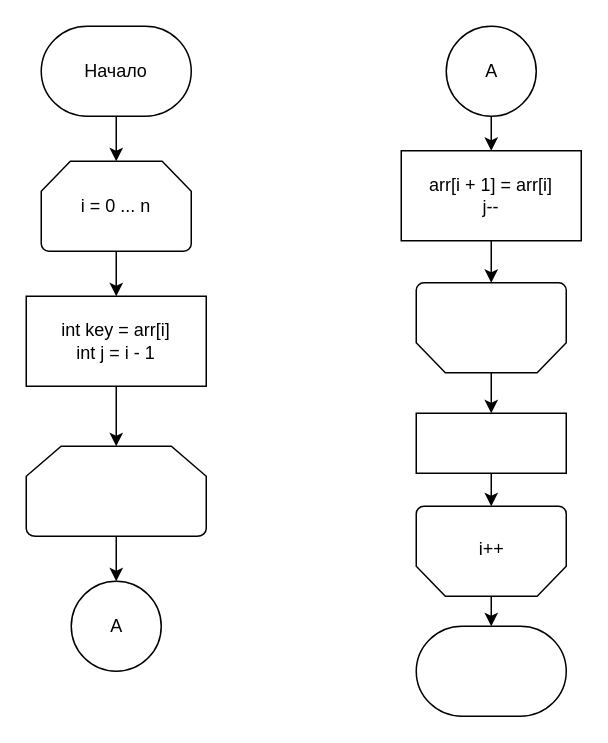
Some shapes in this 608 by 743 pixel diagram are drawn without their labels. Here are the shapes that lost their labels. From the top down, the box of each, then its label:
(415, 281, 566, 373): Конец цикла
(415, 412, 566, 473): arr[j+1] = key
(25, 445, 206, 536): j >= 0 && arr[j] > key
(415, 625, 566, 716): Конец
